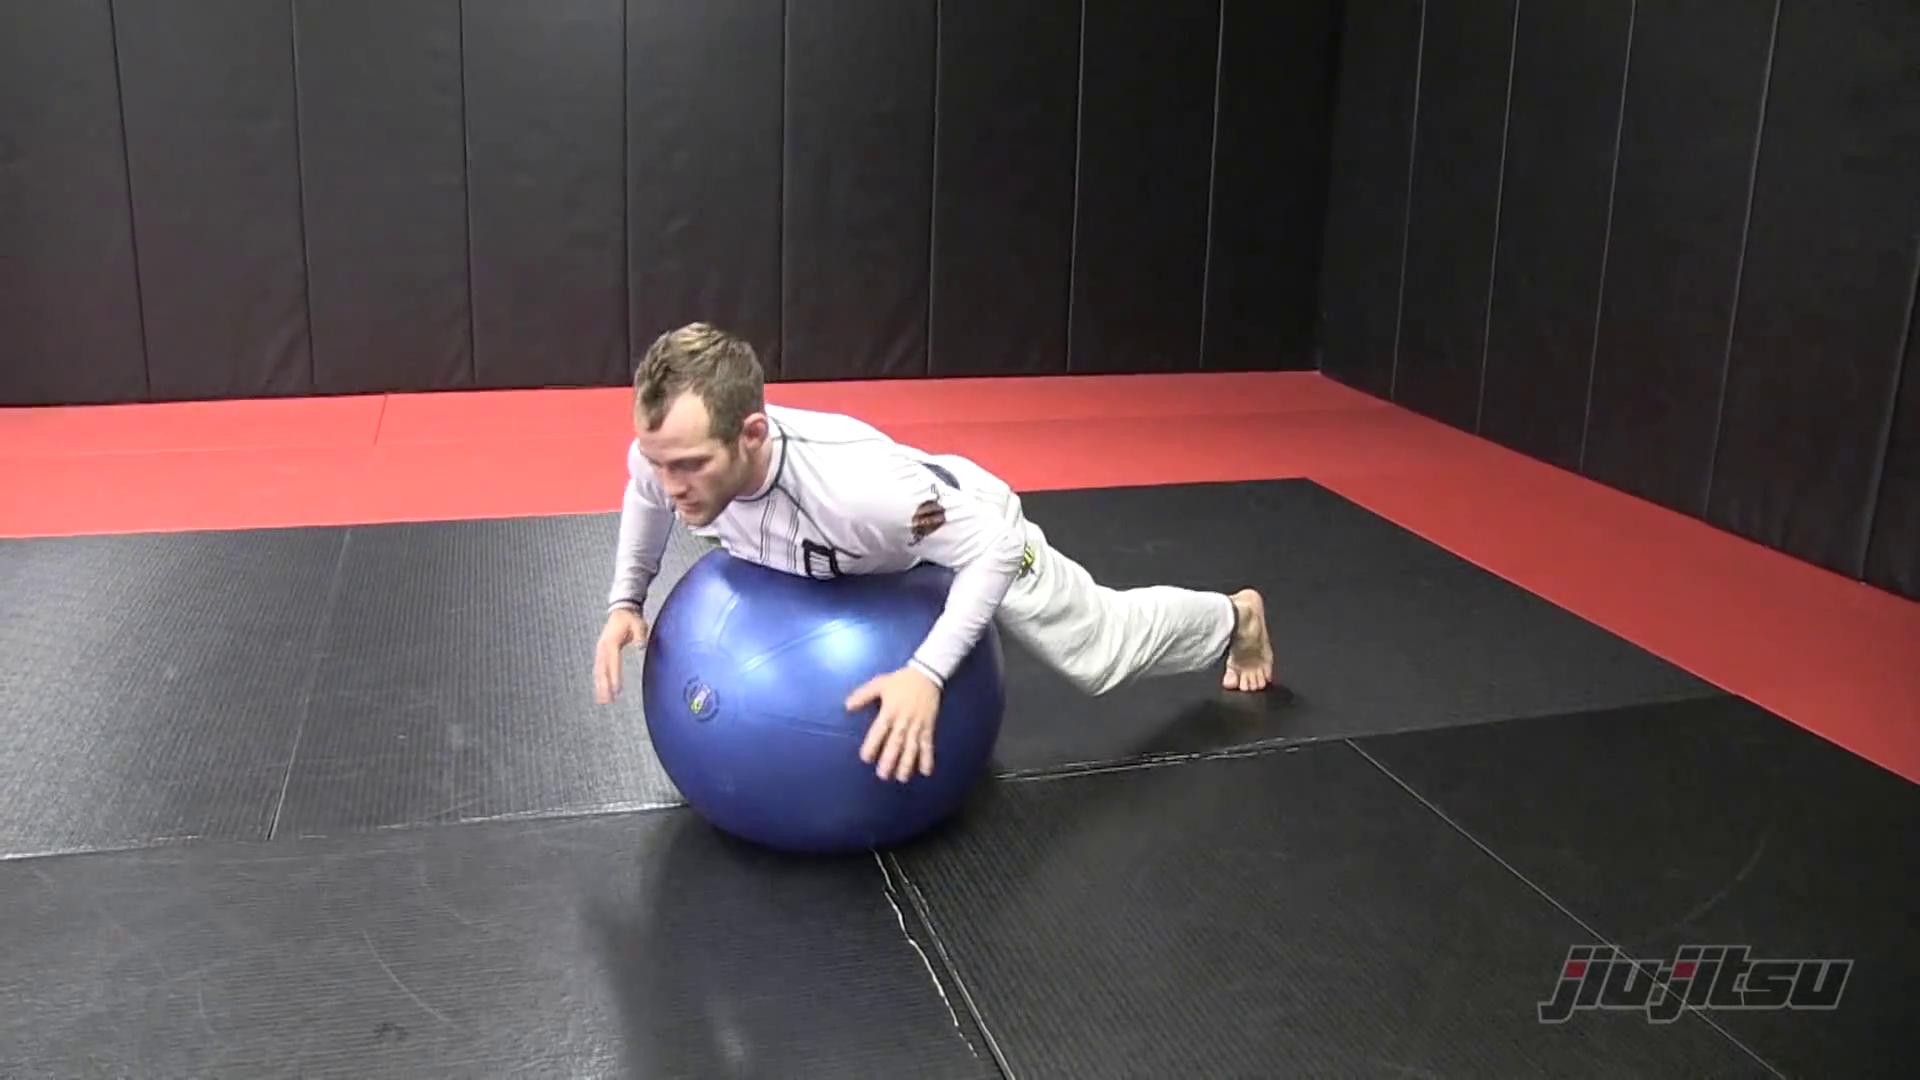yogaball: (633, 538, 1022, 873)
